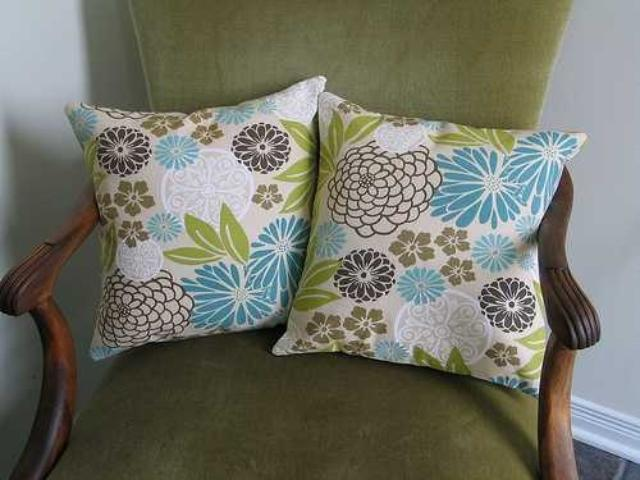pillow: (269, 90, 587, 398), (64, 73, 326, 361)
